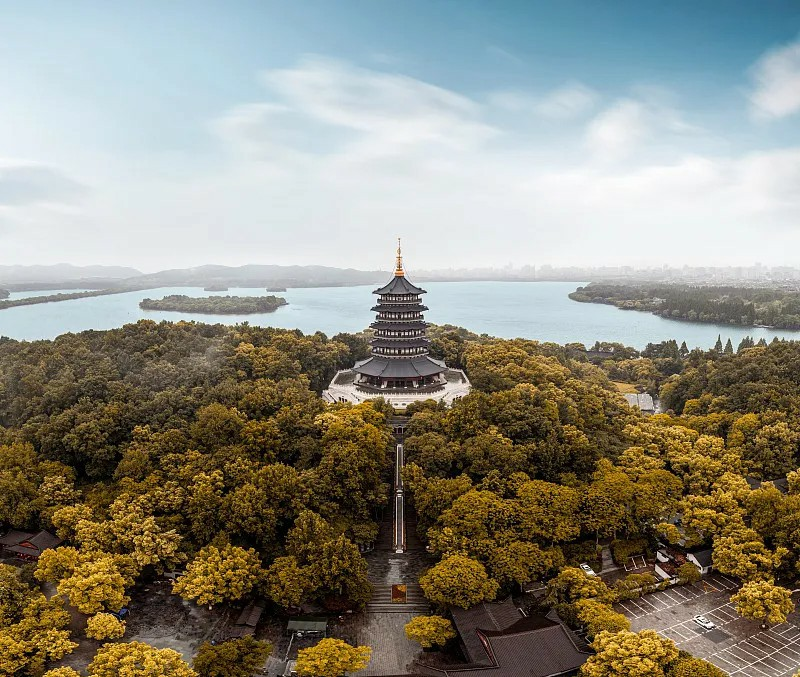Leifeng: (353, 236, 447, 394)
